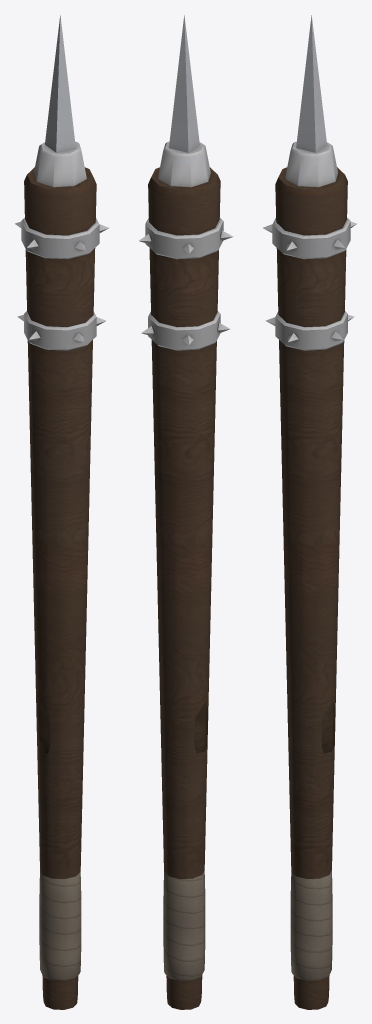
File: goedendag.glb
The picture shows the model from 3 angles, left to right: view 1: azimuth 30°, elevation 25°; view 2: azimuth 150°, elevation 25°; view 3: azimuth 330°, elevation 25°; orthographic projection.
Parts seen in each view (by area): view 1: SM_V_goedendag; view 2: SM_V_goedendag; view 3: SM_V_goedendag.
Boxes of the visible parts, x1=… form: SM_V_goedendag: x1=15, y1=15, x2=108, y2=1009; SM_V_goedendag: x1=139, y1=15, x2=233, y2=1009; SM_V_goedendag: x1=263, y1=15, x2=356, y2=1009.
Size of the model in its own units: 0.1312 by 1.5 by 0.1248.
1 material, 1 textured.
